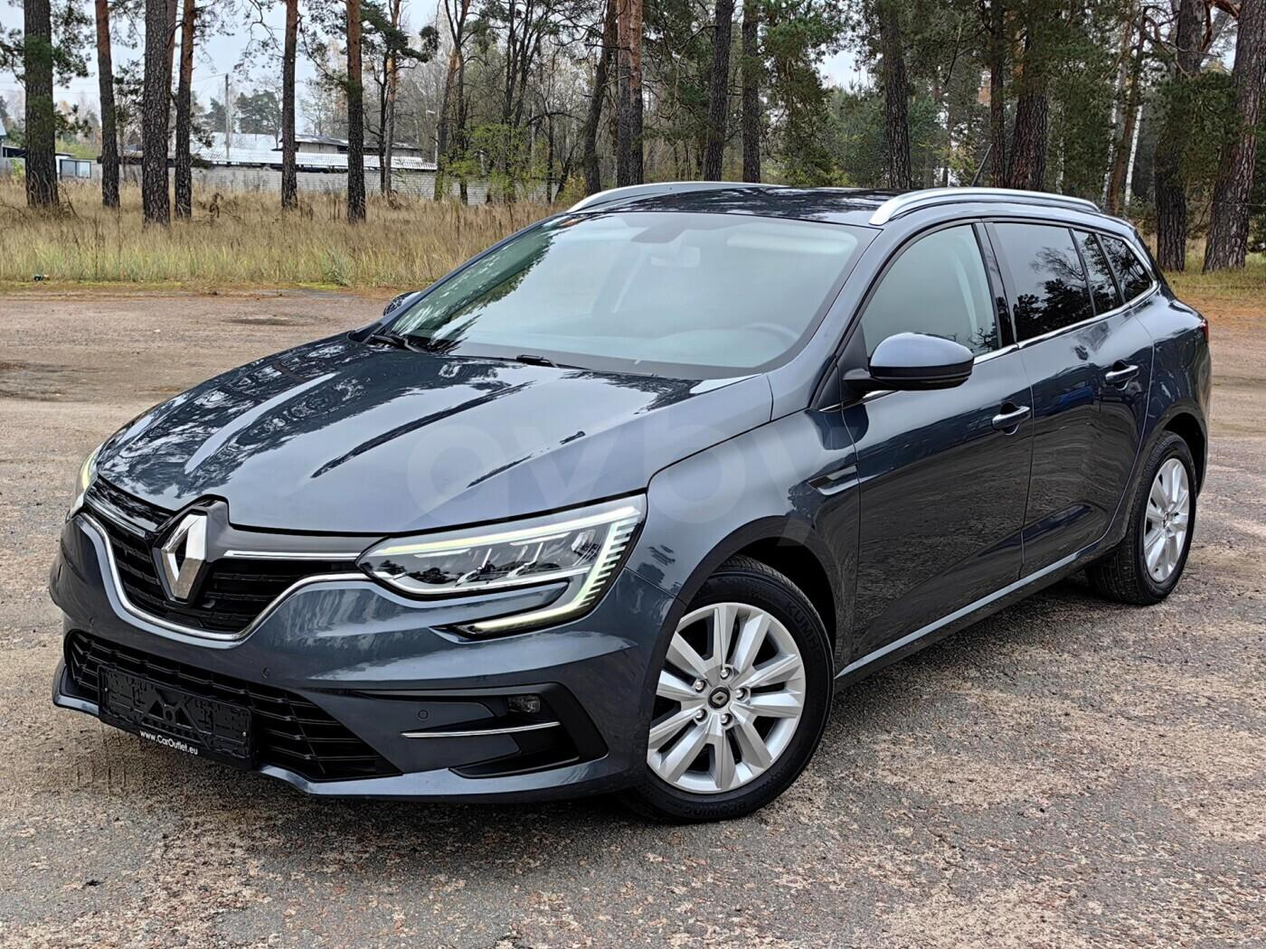Megane_2020: (26, 167, 1218, 834)
